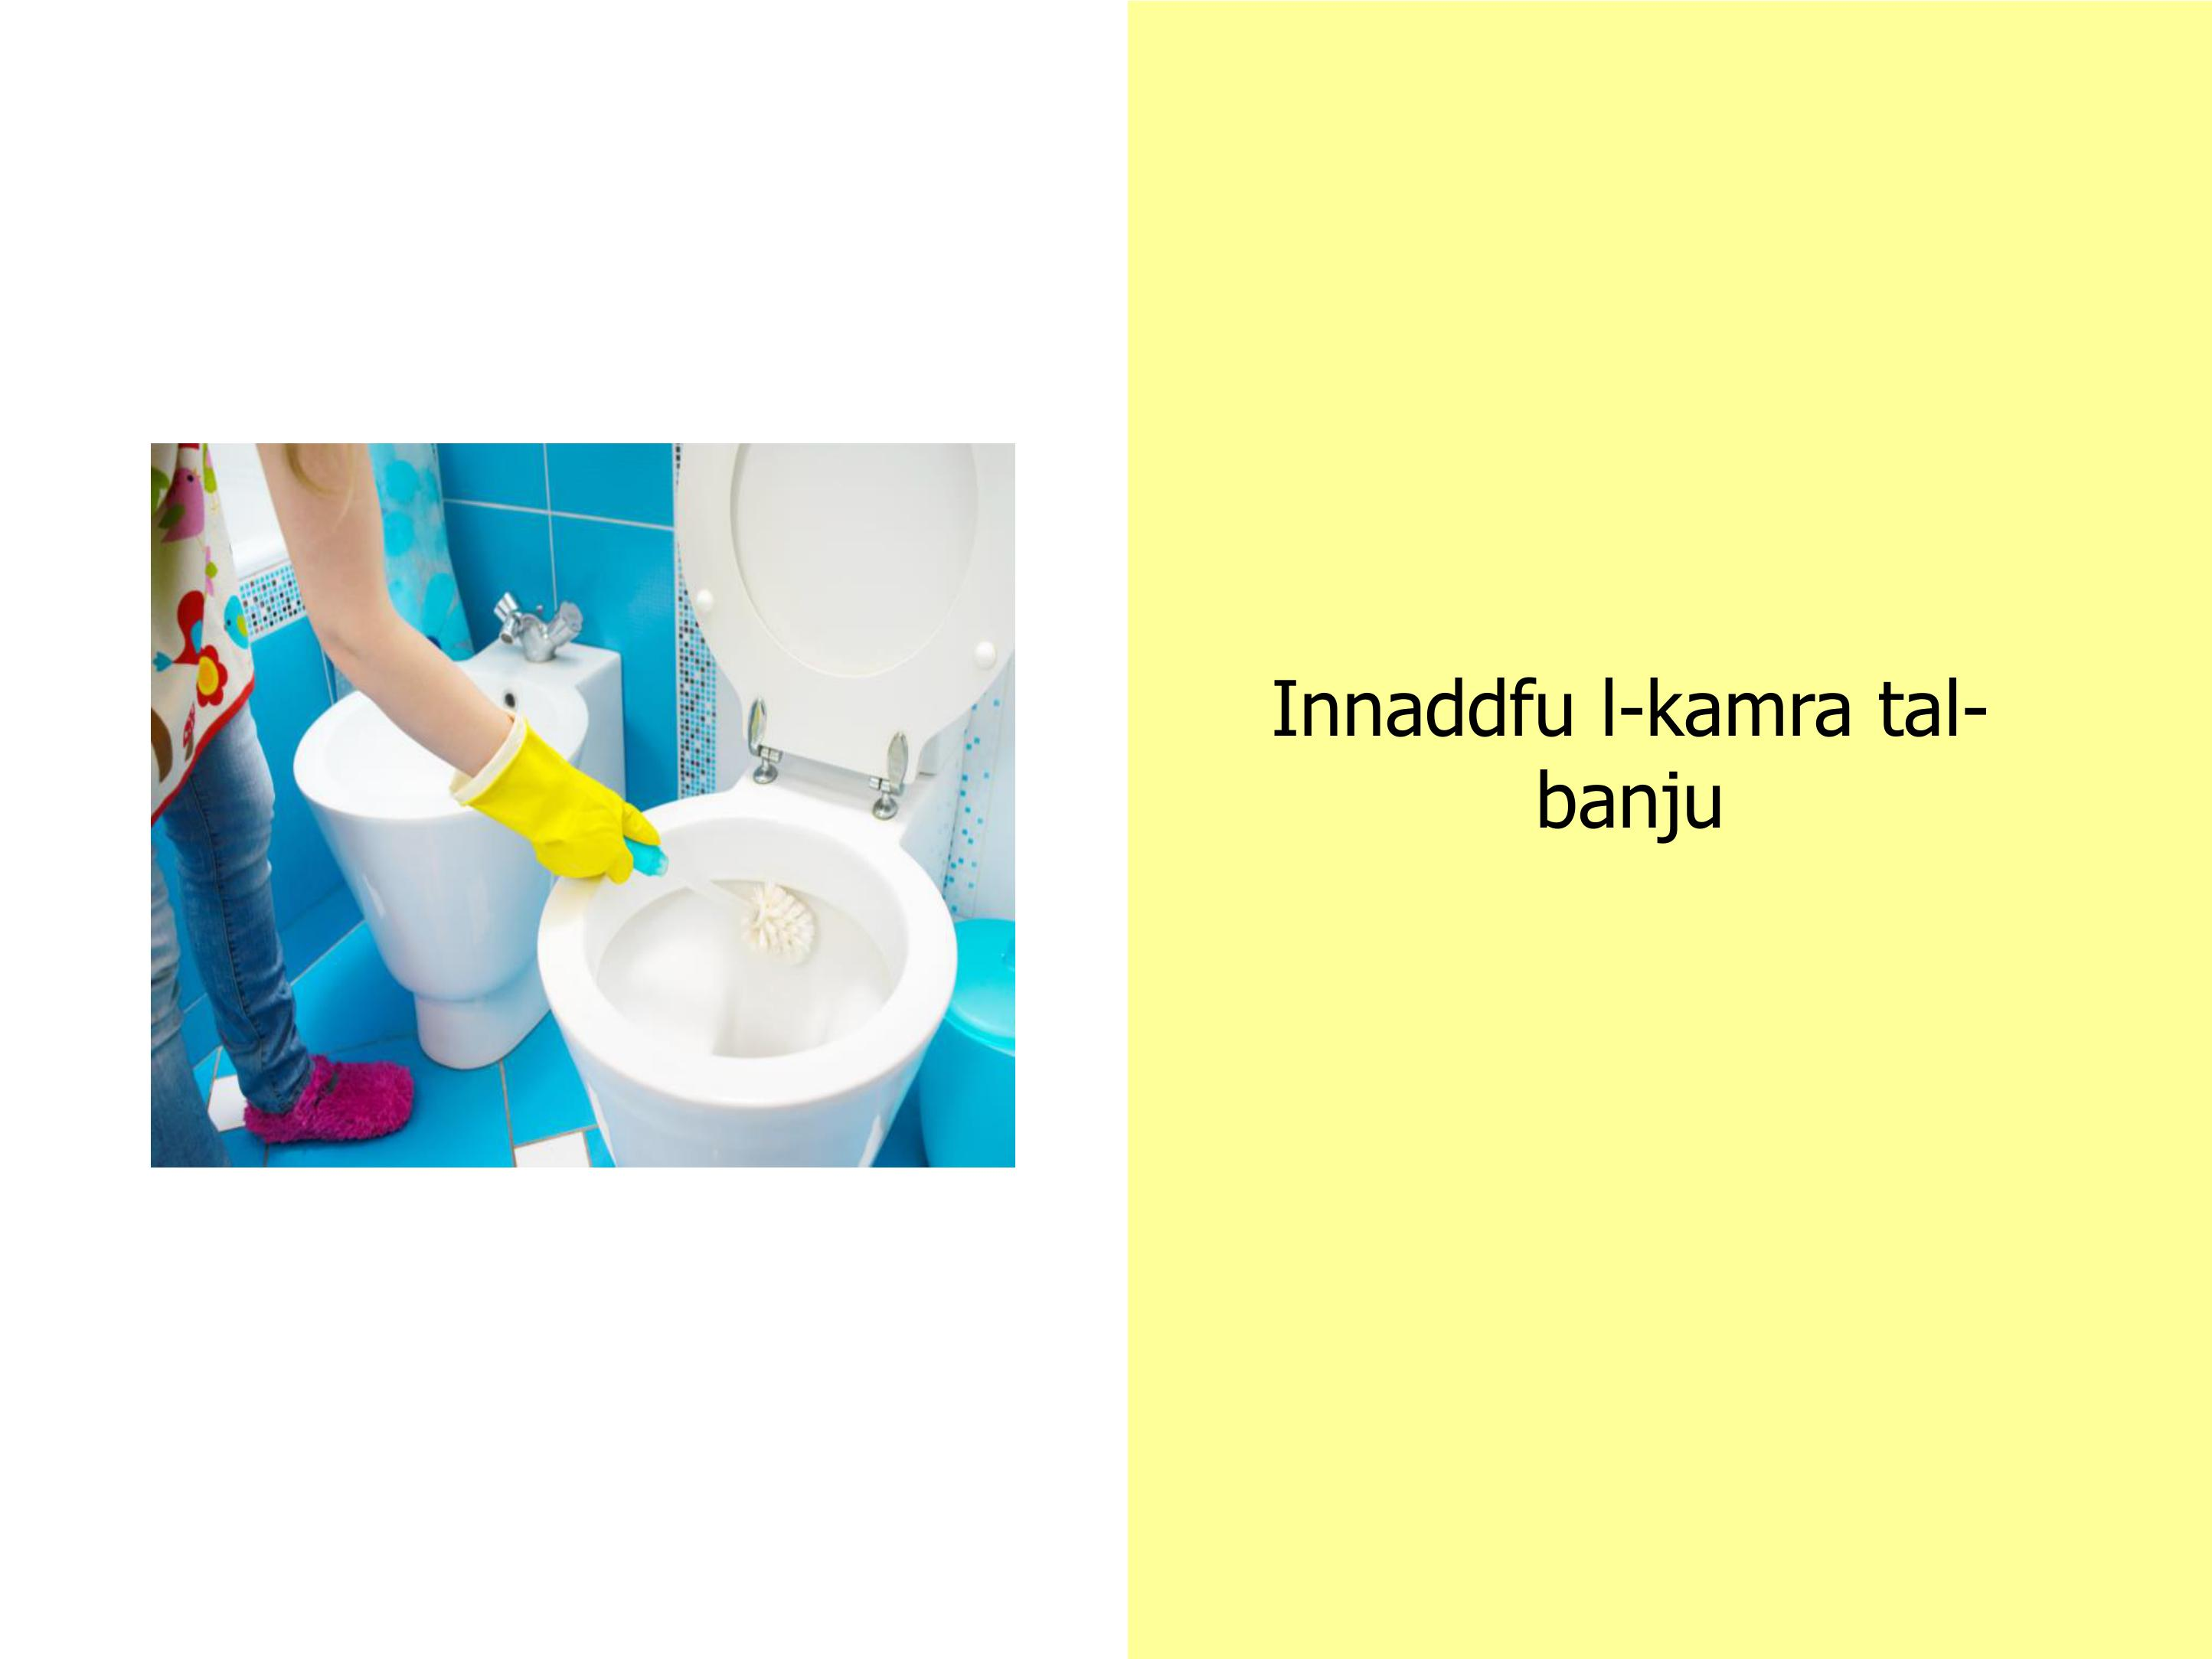text: (1218, 633, 2005, 861)
